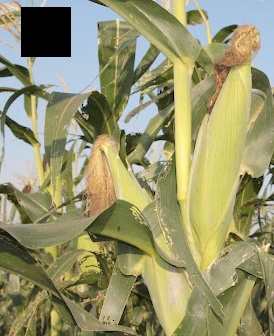corn_plant: (83, 132, 192, 334), (187, 20, 264, 267)
